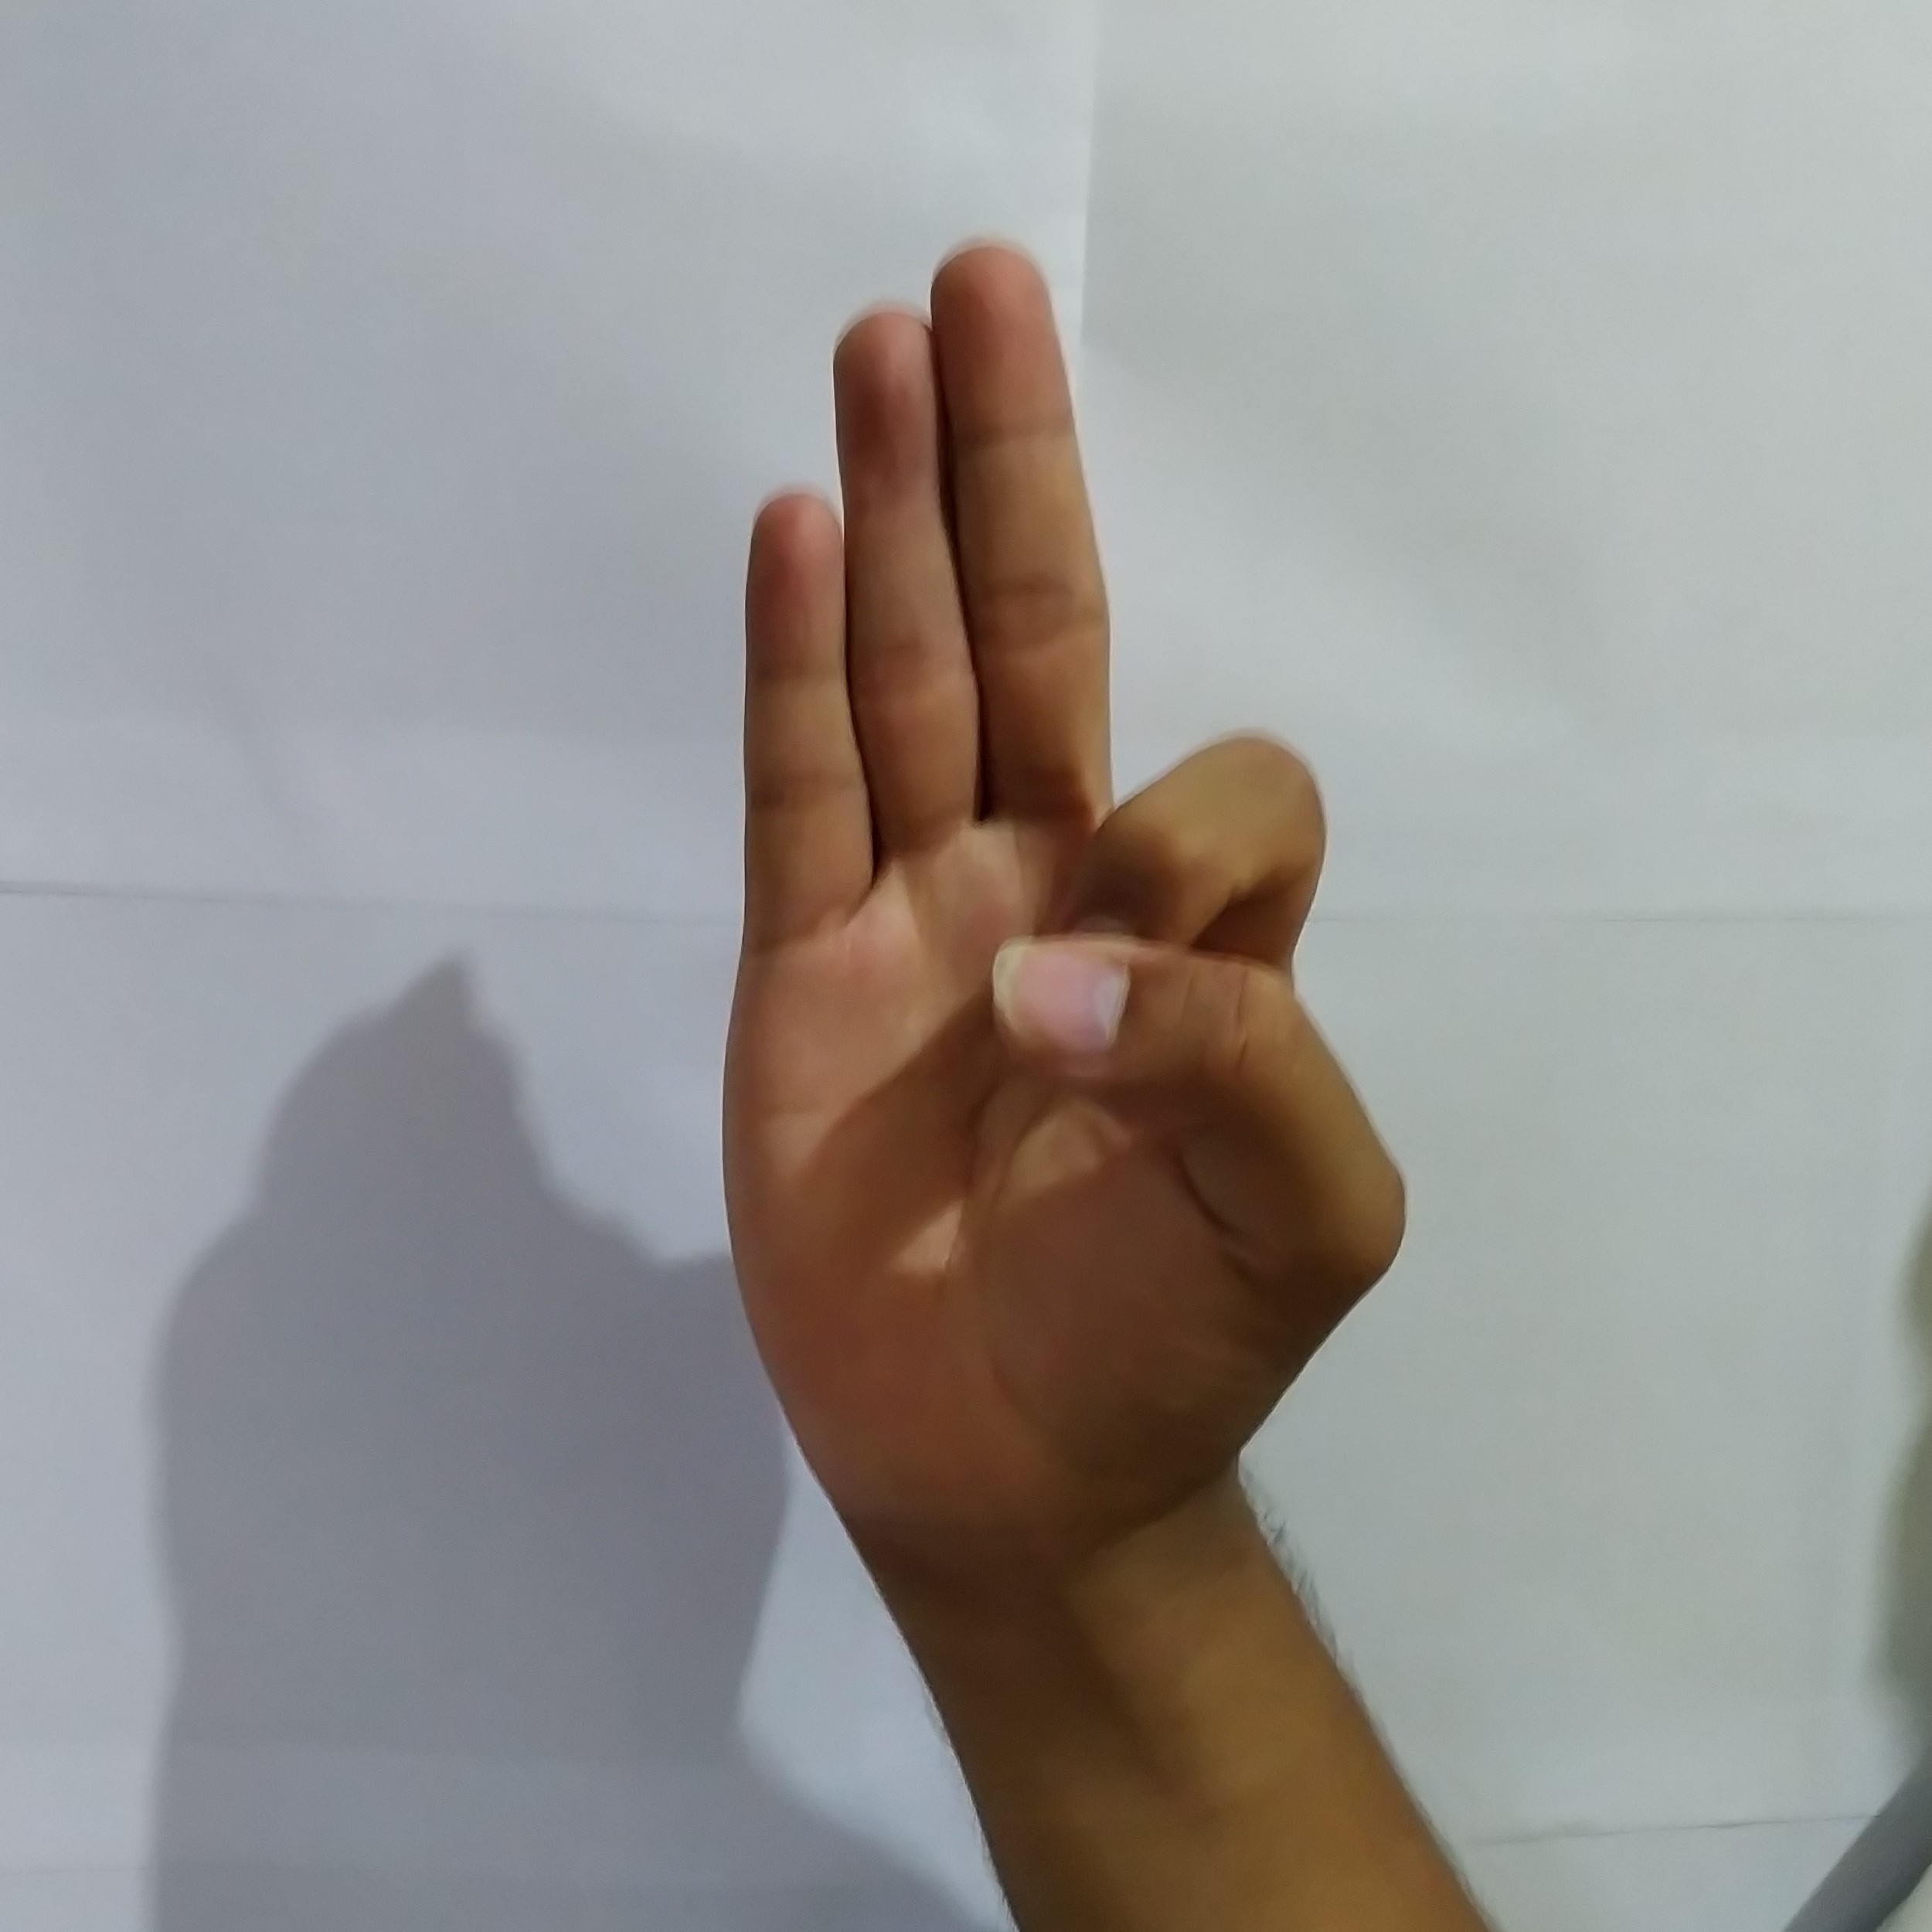F: (697, 221, 1424, 1499)
